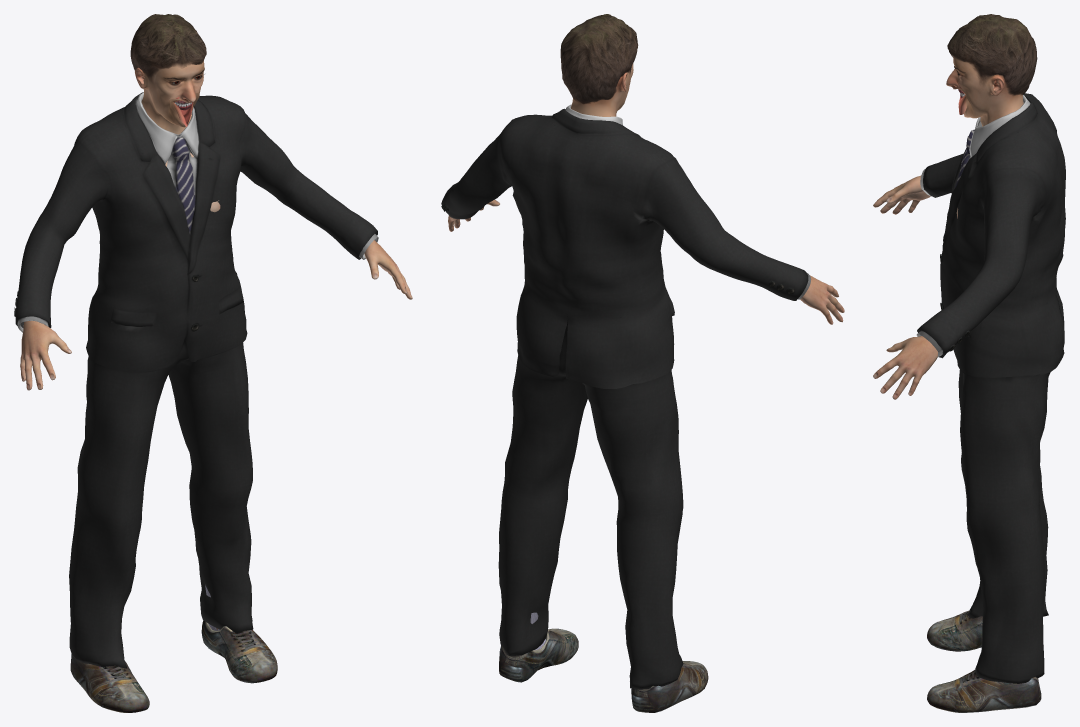
File: houston.glb
The picture shows the model from 3 angles, left to right: view 1: azimuth 30°, elevation 25°; view 2: azimuth 150°, elevation 25°; view 3: azimuth 270°, elevation 25°; orthographic projection.
Parts seen in each view (by area): view 1: Human.male_elegantsuit01_export_copy, Human_export_copy, Human.shoes02_export_copy, Human.short02_export_copy; view 2: Human.male_elegantsuit01_export_copy, Human.short02_export_copy, Human.shoes02_export_copy, Human_export_copy; view 3: Human.male_elegantsuit01_export_copy, Human_export_copy, Human.shoes02_export_copy, Human.short02_export_copy.
Part boxes in pixels (<box>): Human.male_elegantsuit01_export_copy: <box>14,92,378,668</box>; Human_export_copy: <box>20,61,412,685</box>; Human.shoes02_export_copy: <box>70,585,277,712</box>; Human.short02_export_copy: <box>130,14,206,82</box>; Human.male_elegantsuit01_export_copy: <box>441,104,811,689</box>; Human.short02_export_copy: <box>560,14,638,104</box>; Human.shoes02_export_copy: <box>499,612,708,712</box>; Human_export_copy: <box>448,63,844,646</box>; Human.male_elegantsuit01_export_copy: <box>916,93,1065,683</box>; Human_export_copy: <box>873,56,1023,631</box>; Human.shoes02_export_copy: <box>927,610,1041,712</box>; Human.short02_export_copy: <box>947,14,1037,95</box>.
Size of the model in its own units: 1.1 by 1.8 by 0.4792.
Materials: 9 (9 with a texture image).
